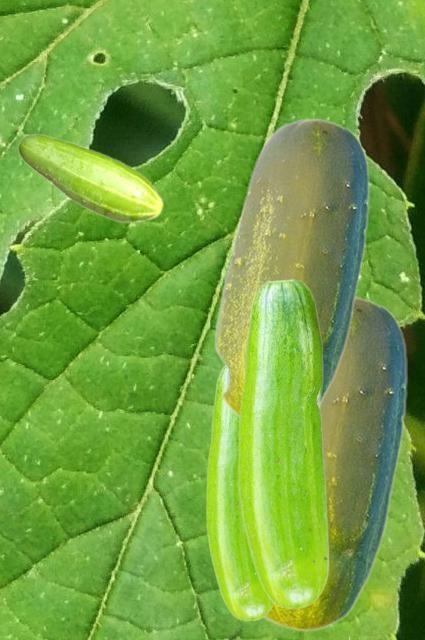cucumber: (263, 294, 406, 631), (213, 117, 368, 417), (238, 278, 328, 608), (206, 366, 273, 620), (17, 133, 163, 223)
